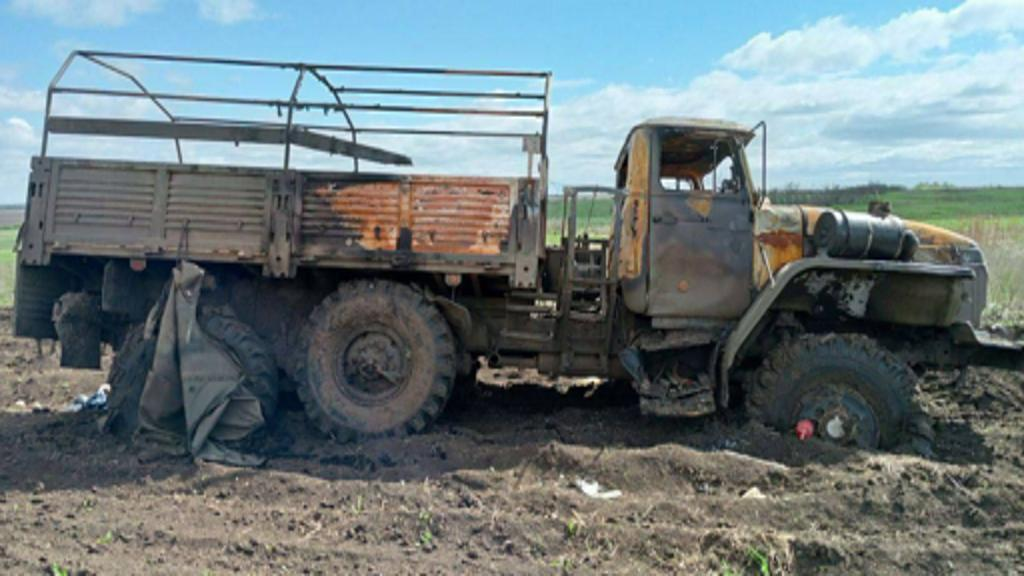TRUCK: (0, 46, 994, 478)
